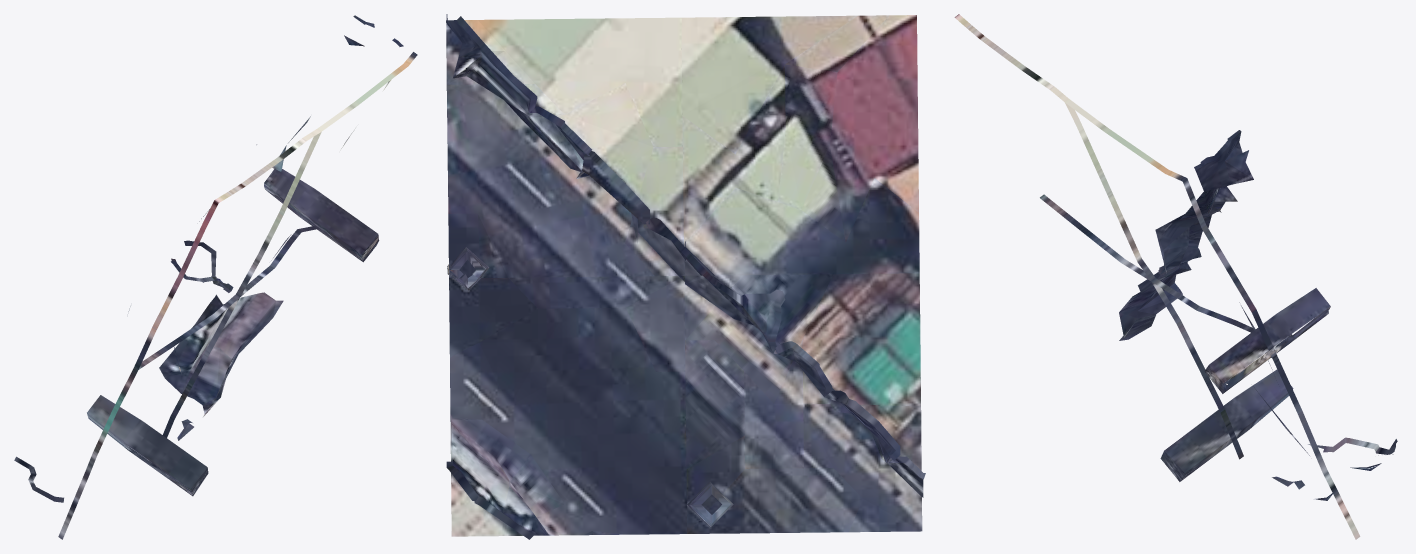
3 renders of one model, left to right at view 1: azimuth 30°, elevation 25°; view 2: azimuth 150°, elevation 25°; view 3: azimuth 270°, elevation 25°, orthographic. The views are drawn at different scales.
Bounding box in the file's own units: 40.15 × 39.11 × 34.78.
1 material, 1 textured.
